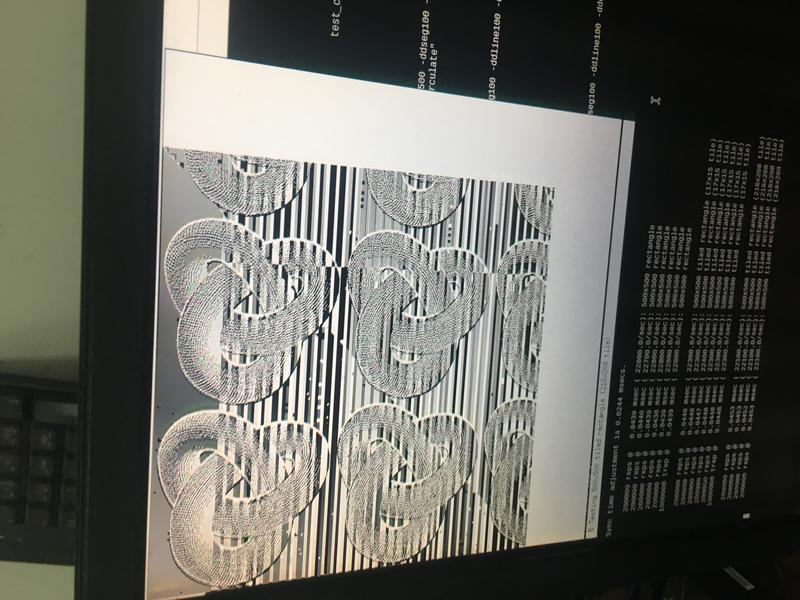xrandr_pass: (126, 36, 635, 593)
